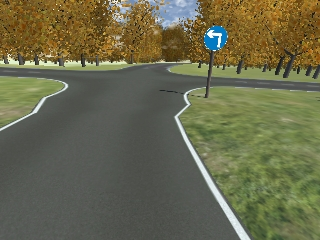left: (203, 25, 230, 51)
